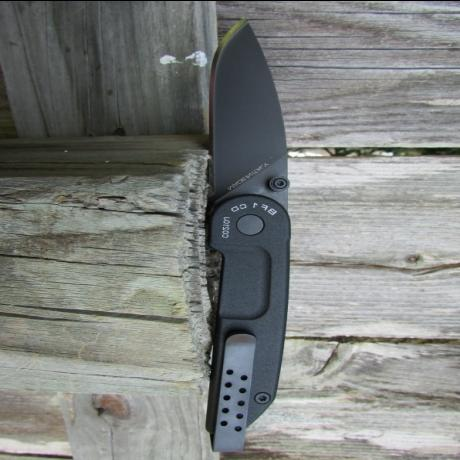weapon: (206, 17, 302, 448)
